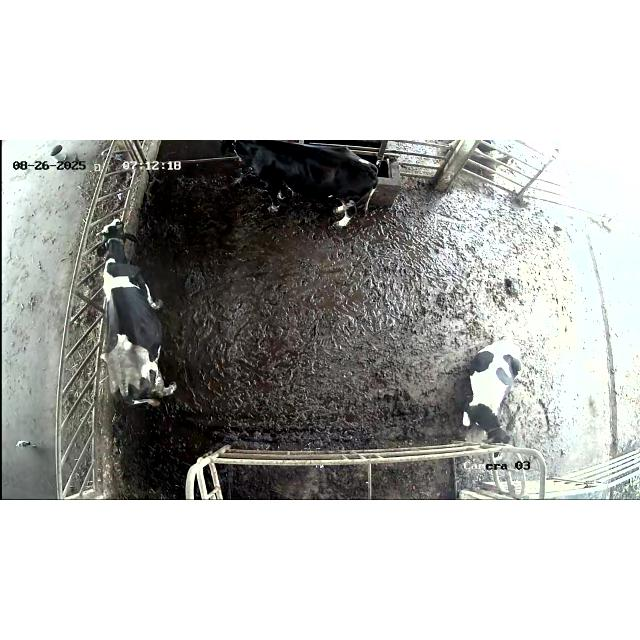stand: (90, 216, 180, 410), (214, 140, 380, 230)
